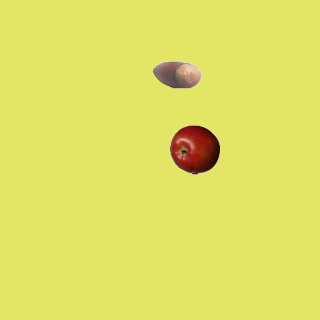Apple Braeburn: (169, 124, 219, 174)
Hazelnut: (151, 49, 201, 99)
